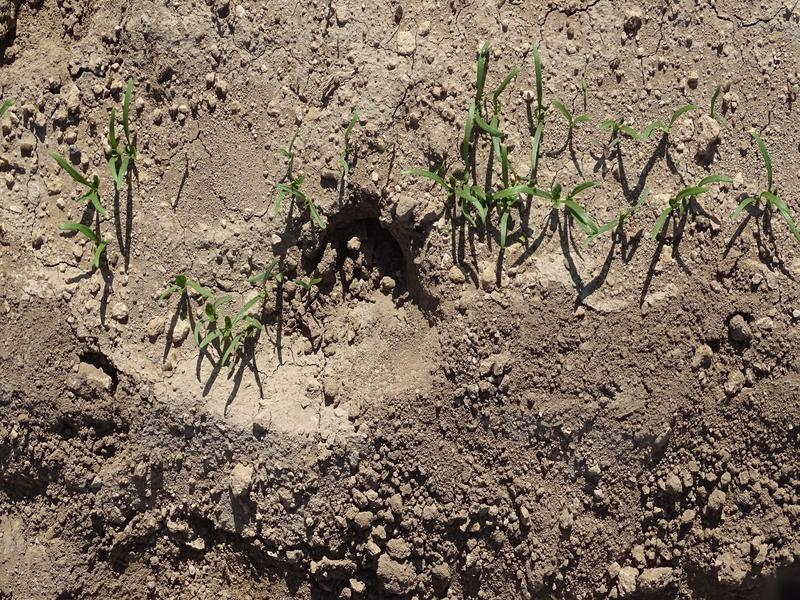Espinaca: (405, 66, 599, 247), (49, 80, 139, 270), (162, 260, 286, 364), (739, 132, 795, 235), (651, 171, 729, 241), (604, 106, 700, 144), (269, 173, 326, 228), (608, 196, 653, 232)
